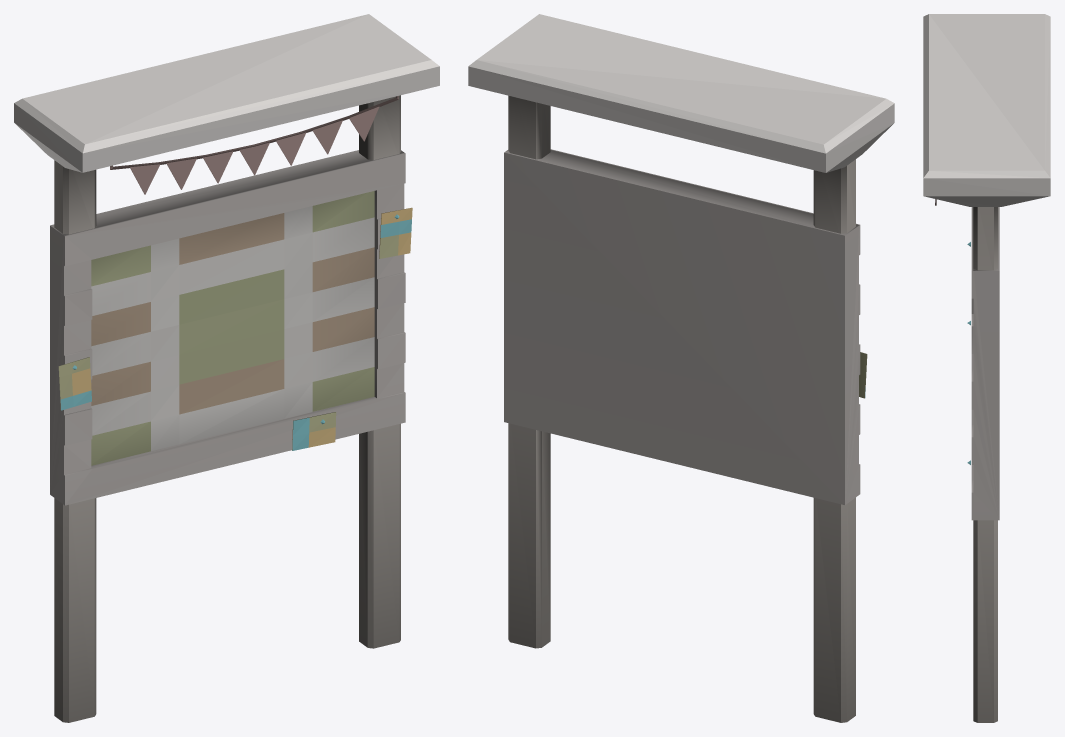
File: mapboard.glb
3 views of the same model, side by side, from view 1: azimuth 30°, elevation 25°; view 2: azimuth 150°, elevation 25°; view 3: azimuth 270°, elevation 25° (orthographic). The views are drawn at different scales.
Visible parts, largest first — view 1: mapboard; view 2: mapboard; view 3: mapboard.
Boxes of the visible parts, left/top/right/bottom form: mapboard: left=14, top=14, right=439, bottom=722; mapboard: left=468, top=14, right=894, bottom=722; mapboard: left=923, top=14, right=1050, bottom=722.
Bounding box in the file's own units: 1.5 × 2.4 × 0.5.
